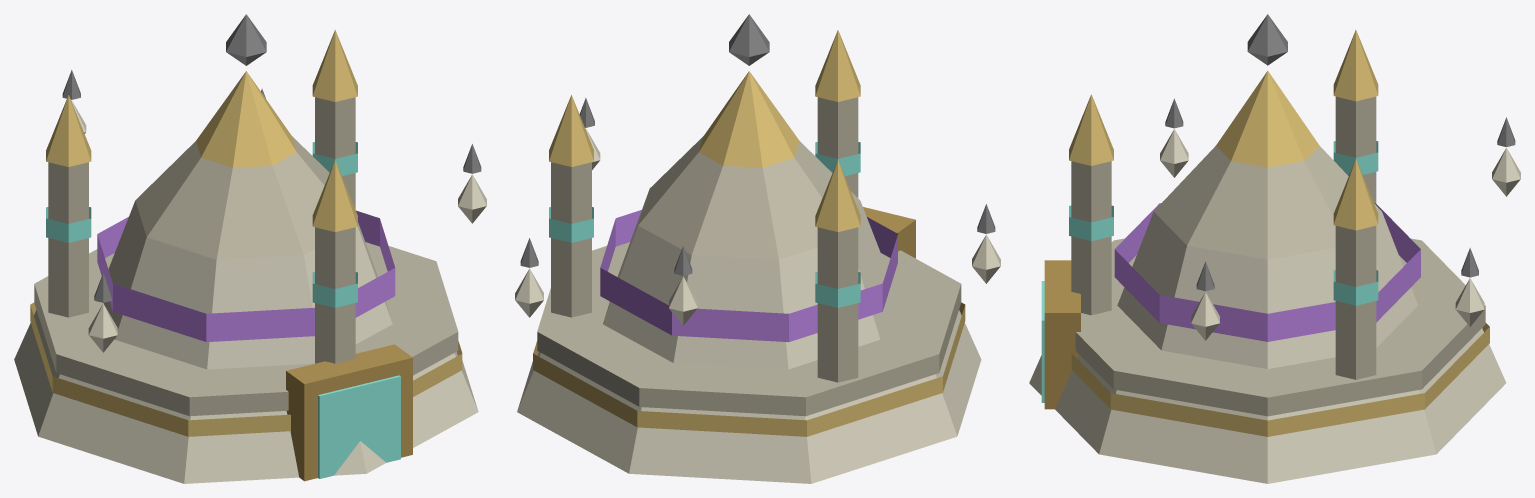
File: athenaeum.obj
The picture shows the model from 3 angles, left to right: view 1: azimuth 30°, elevation 25°; view 2: azimuth 150°, elevation 25°; view 3: azimuth 270°, elevation 25°; orthographic projection.
Parts seen in each view (by area): view 1: athenaeum; view 2: athenaeum; view 3: athenaeum.
Boxes of the visible parts, x1,y1,x2,y2 form: athenaeum: (14, 14, 486, 483); athenaeum: (515, 14, 1000, 483); athenaeum: (1029, 14, 1520, 483).
Bounding box in the file's own units: 9.22 × 8.83 × 9.48.
